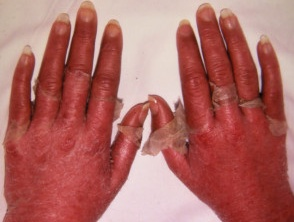SJS-TEN: (0, 0, 159, 222), (144, 0, 294, 222)
